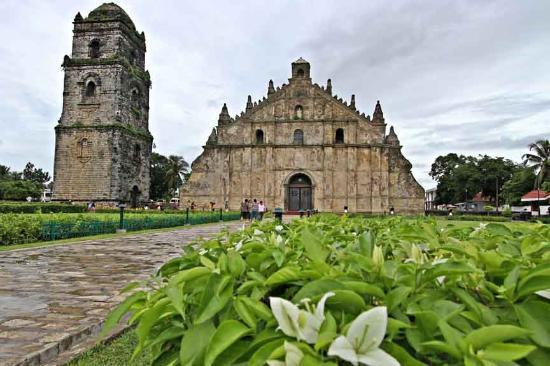Environmental Damage: (113, 123, 155, 143), (119, 62, 153, 84), (66, 120, 108, 132), (80, 12, 109, 24)
Paoay Church: (49, 1, 428, 217)
